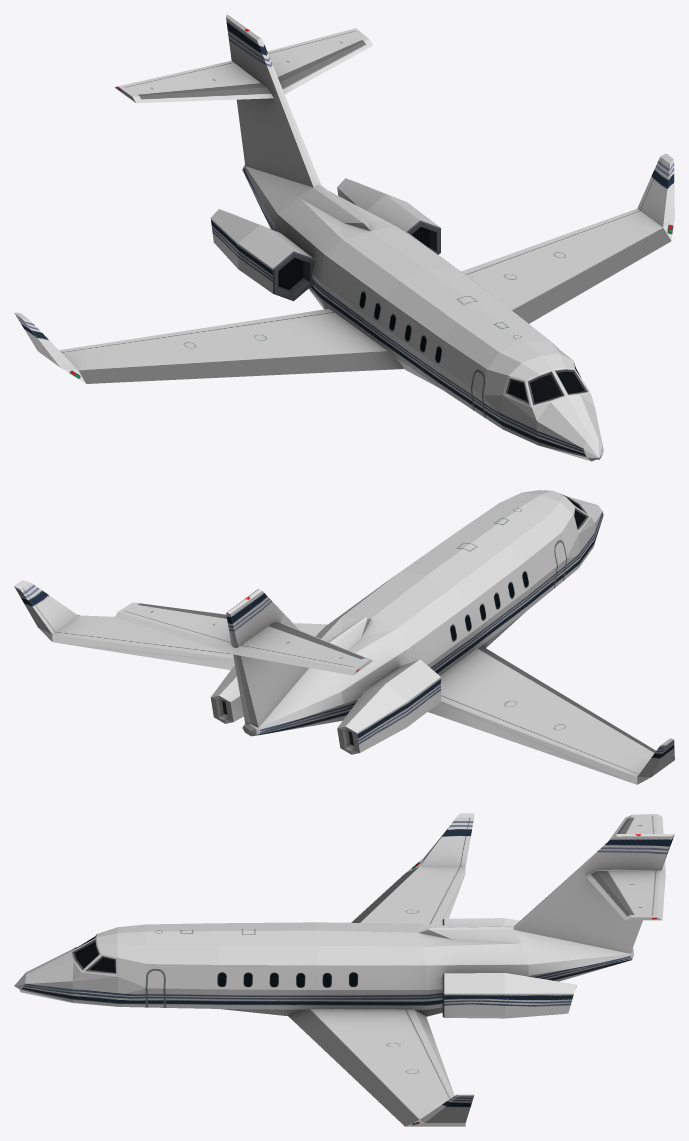
Rendered from Jet.glb.
The picture shows the model from 3 angles, top to bottom: view 1: azimuth 30°, elevation 25°; view 2: azimuth 150°, elevation 25°; view 3: azimuth 270°, elevation 25°; orthographic projection. The views are drawn at different scales.
Visible parts, largest first — view 1: Jet_mesh; view 2: Jet_mesh; view 3: Jet_mesh.
Part boxes in pixels (x1,y1,x2,y2): Jet_mesh: (14, 14, 674, 461); Jet_mesh: (14, 490, 674, 784); Jet_mesh: (14, 813, 674, 1126).
Size of the model in its own units: 8.68 by 2.47 by 8.58.
1 material, 1 textured.
